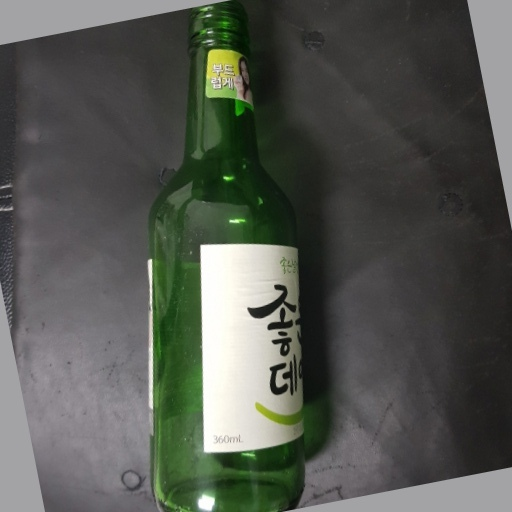Glass_0: (149, 4, 307, 512)
